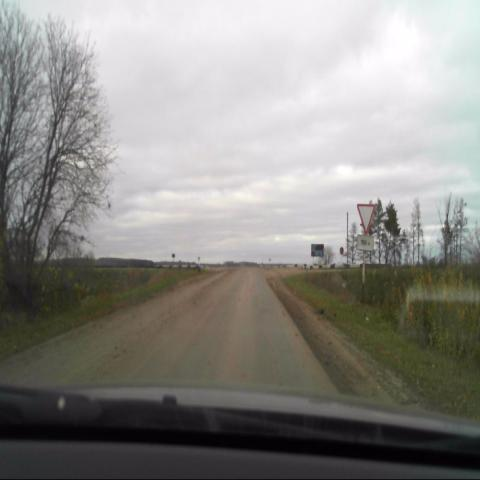8_1_1: (357, 234, 374, 252)
